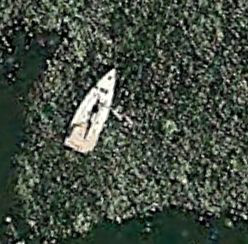boat: (61, 67, 118, 156)
